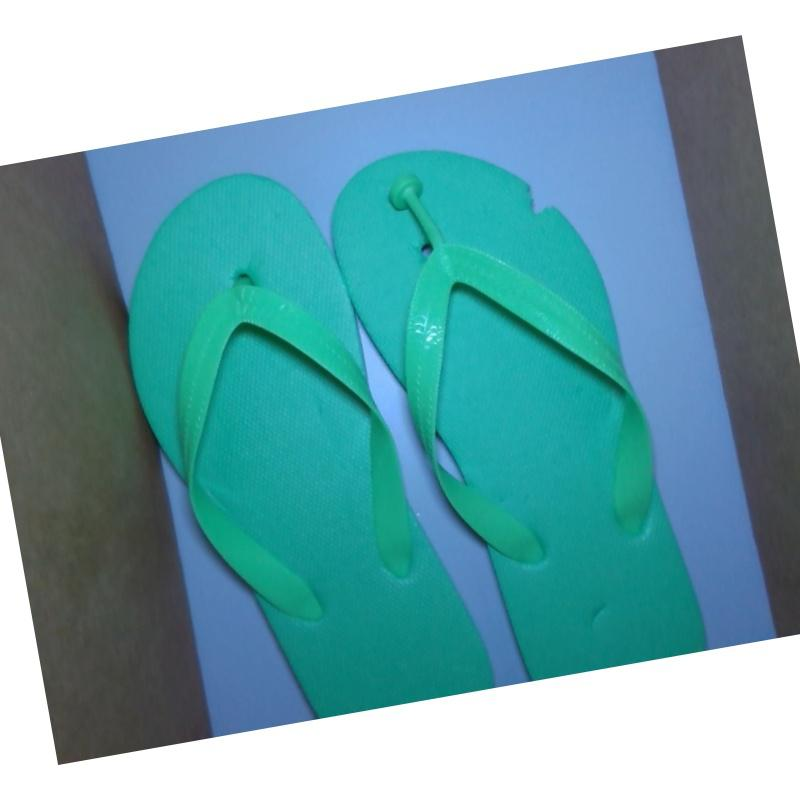chipped: (513, 165, 580, 239)
detached: (380, 168, 440, 225)
